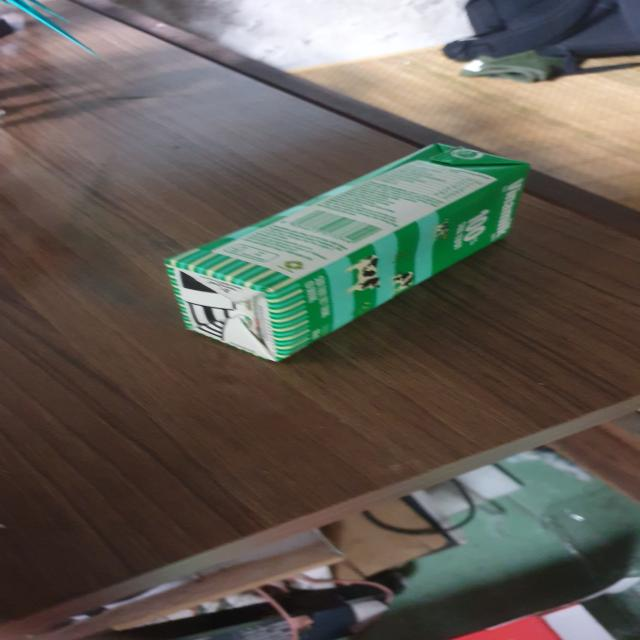Vina: (173, 141, 529, 363)
